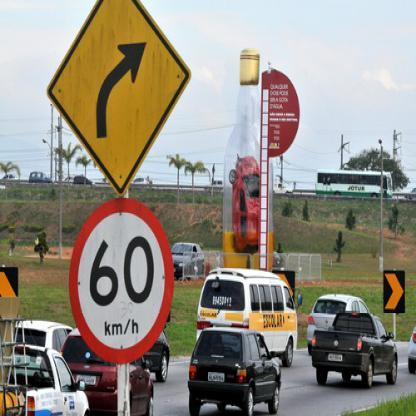Speed Limit 60: (73, 198, 173, 360)
